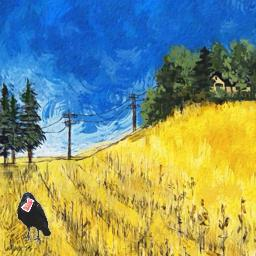Crow: (17, 192, 51, 243)
